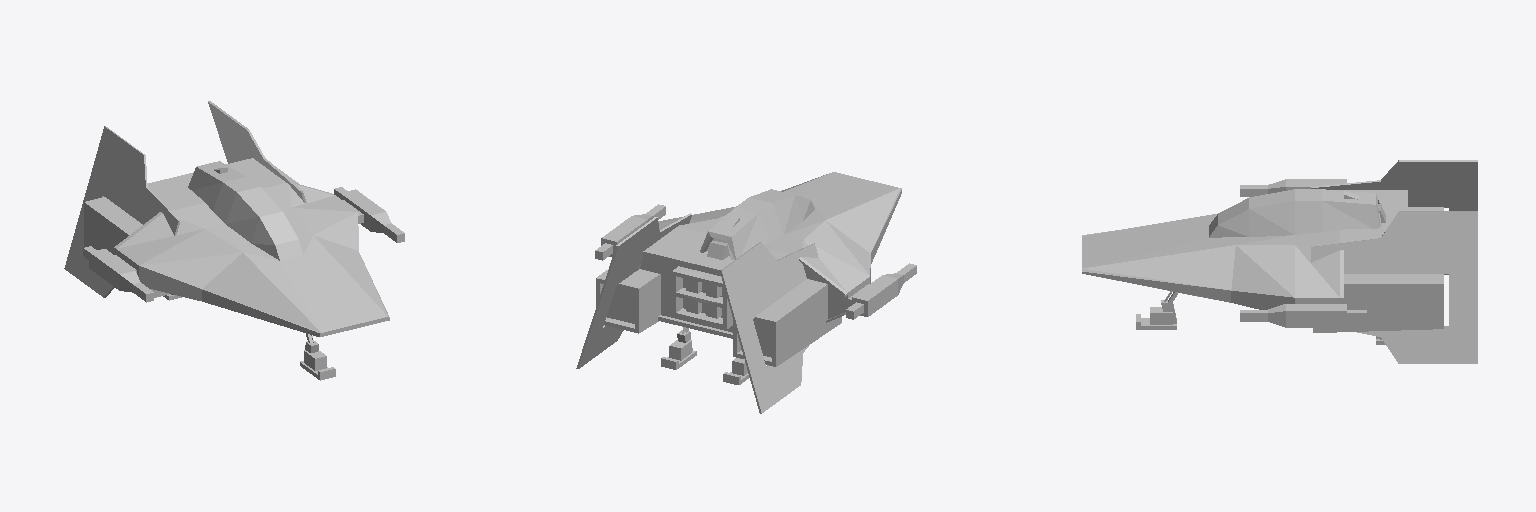
File: a-wing_NOT_FUCKING_FINAL.obj
3 renders of one model, left to right at view 1: azimuth 30°, elevation 25°; view 2: azimuth 150°, elevation 25°; view 3: azimuth 270°, elevation 25°, orthographic.
Parts seen in each view (by area): view 1: Cube.003; view 2: Cube.003; view 3: Cube.003.
Part boxes in pixels (x1,y1,x2,y2): Cube.003: (64, 101, 404, 380); Cube.003: (576, 172, 916, 413); Cube.003: (1082, 160, 1477, 363).
Size of the model in its own units: 13.6 by 6.84 by 17.5.